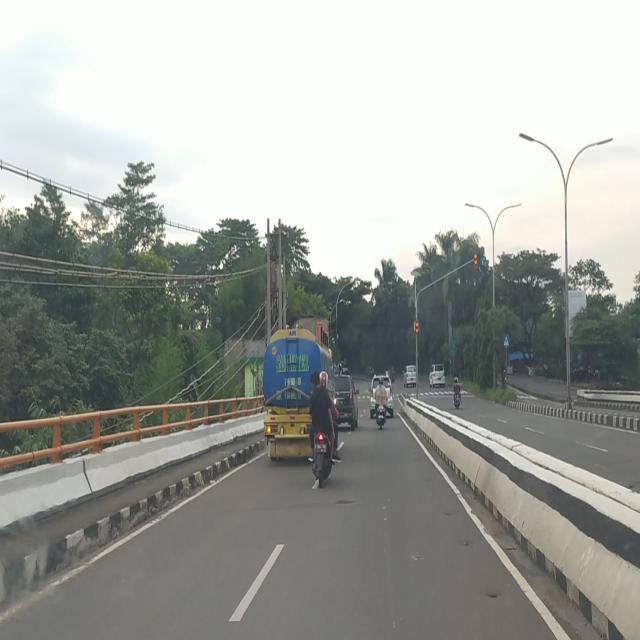Sewer Cover: (264, 498, 356, 512)
